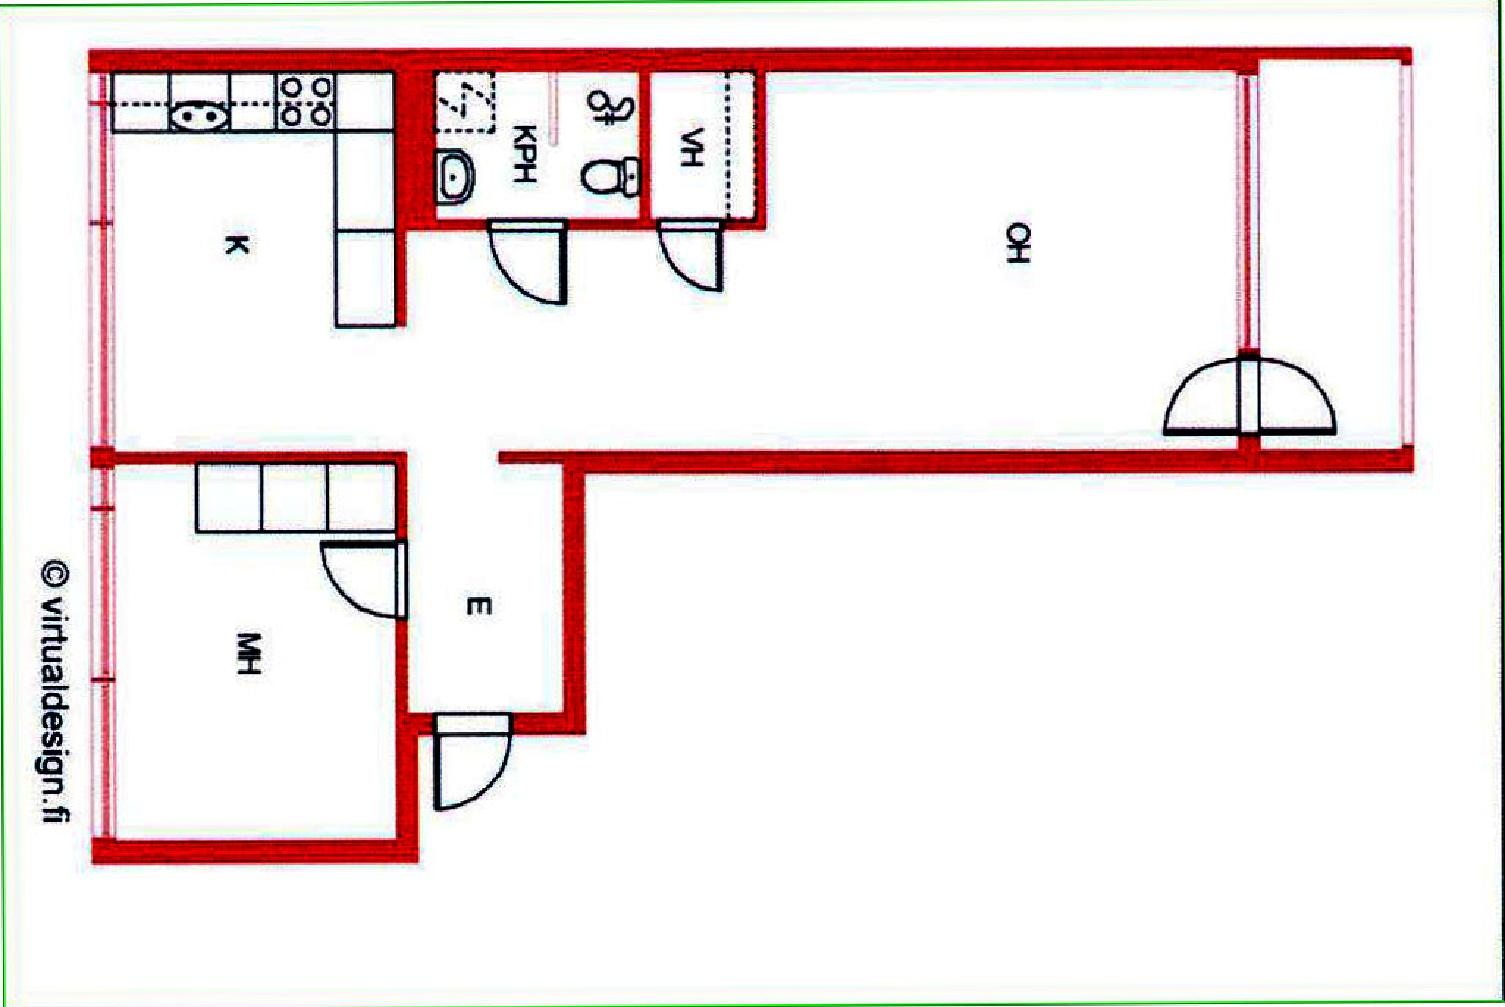door: (1161, 344, 1341, 445), (432, 713, 511, 811), (318, 534, 410, 619), (650, 216, 738, 303), (482, 215, 564, 309)
window: (91, 468, 117, 836), (87, 67, 110, 451), (1234, 73, 1264, 352)
zone: (112, 63, 1239, 716), (114, 462, 391, 842), (1260, 58, 1404, 451), (438, 66, 636, 216), (650, 61, 756, 219)
